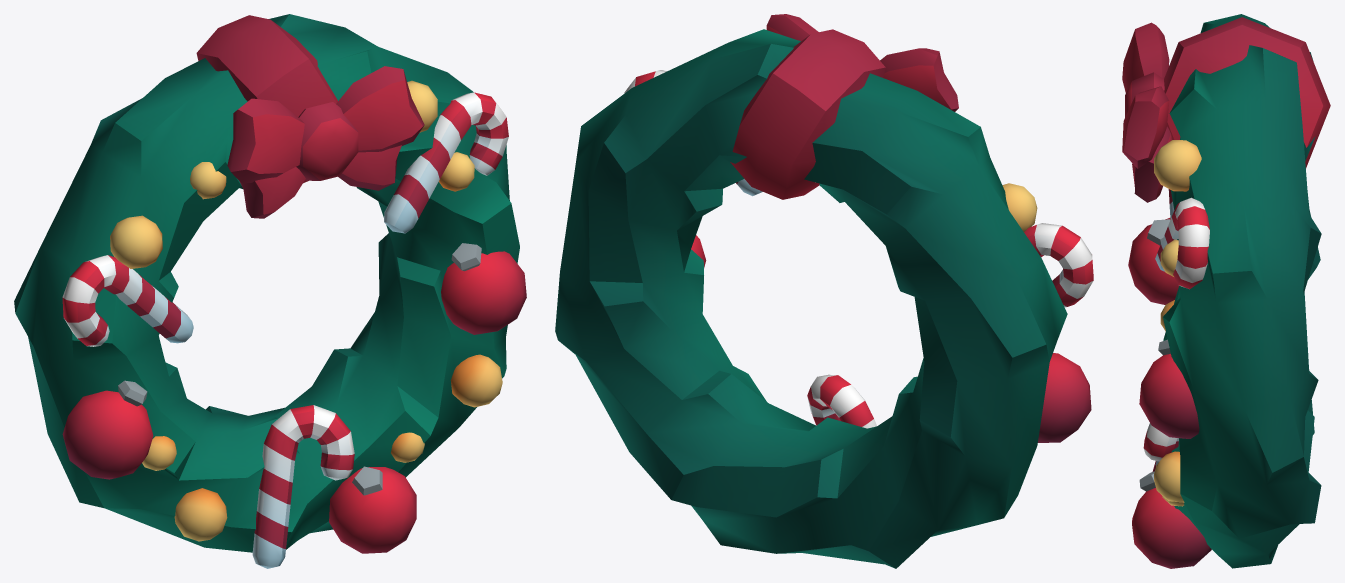
Rendered from wreath.glb.
3 views of the same model, side by side, from view 1: azimuth 30°, elevation 25°; view 2: azimuth 150°, elevation 25°; view 3: azimuth 270°, elevation 25° (orthographic). The views are drawn at different scales.
Parts seen in each view (by area): view 1: wreath; view 2: wreath; view 3: wreath.
Boxes of the visible parts, x1=… form: wreath: x1=14, y1=14, x2=526, y2=568; wreath: x1=555, y1=14, x2=1093, y2=568; wreath: x1=1122, y1=14, x2=1330, y2=568.
Bounding box in the file's own units: 1.31 × 1.34 × 0.4996.
1 material, 1 textured.
